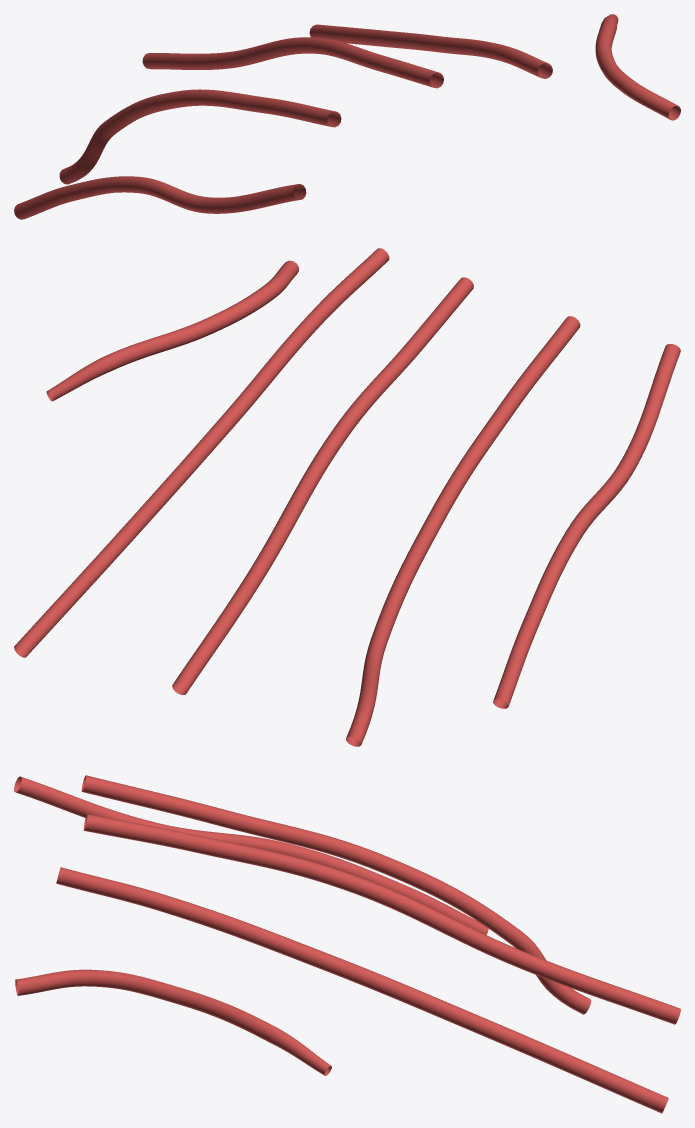
3 renders of one model, top to bottom at view 1: azimuth 30°, elevation 25°; view 2: azimuth 150°, elevation 25°; view 3: azimuth 270°, elevation 25°, orthographic. The views are drawn at different scales.
Parts seen in each view (by area): view 1: 左侧掌背动脉; view 2: 左侧掌背动脉; view 3: 左侧掌背动脉.
Part boxes in pixels (<box>): 左侧掌背动脉: <box>14,14,680,219</box>; 左侧掌背动脉: <box>14,248,680,746</box>; 左侧掌背动脉: <box>14,775,680,1113</box>.
Size of the model in its own units: 0.0929 by 0.0427 by 0.0976.
